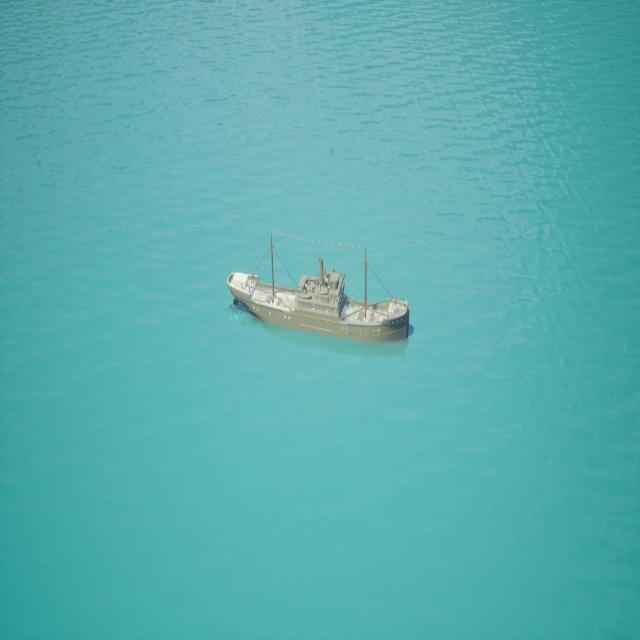fishing ship: (227, 234, 413, 349)
